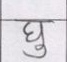u_matra: (23, 45, 49, 59)
